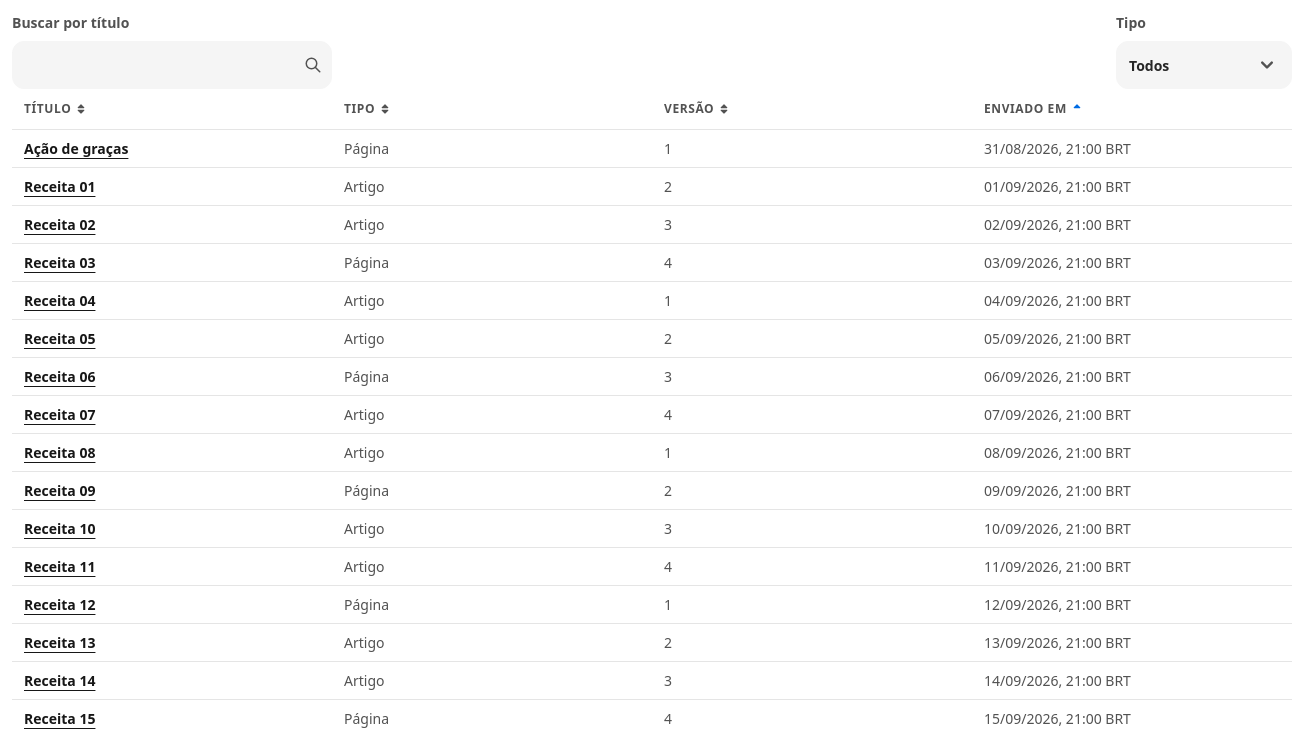
Test case: busca, filtro, ordem e paginação (#365) › busca sem resultado mantém a tabela com a mensagem e 0 resultados
In the search field labelled "Buscar por título": (172, 65) [12,41,332,89], type "inexistente"
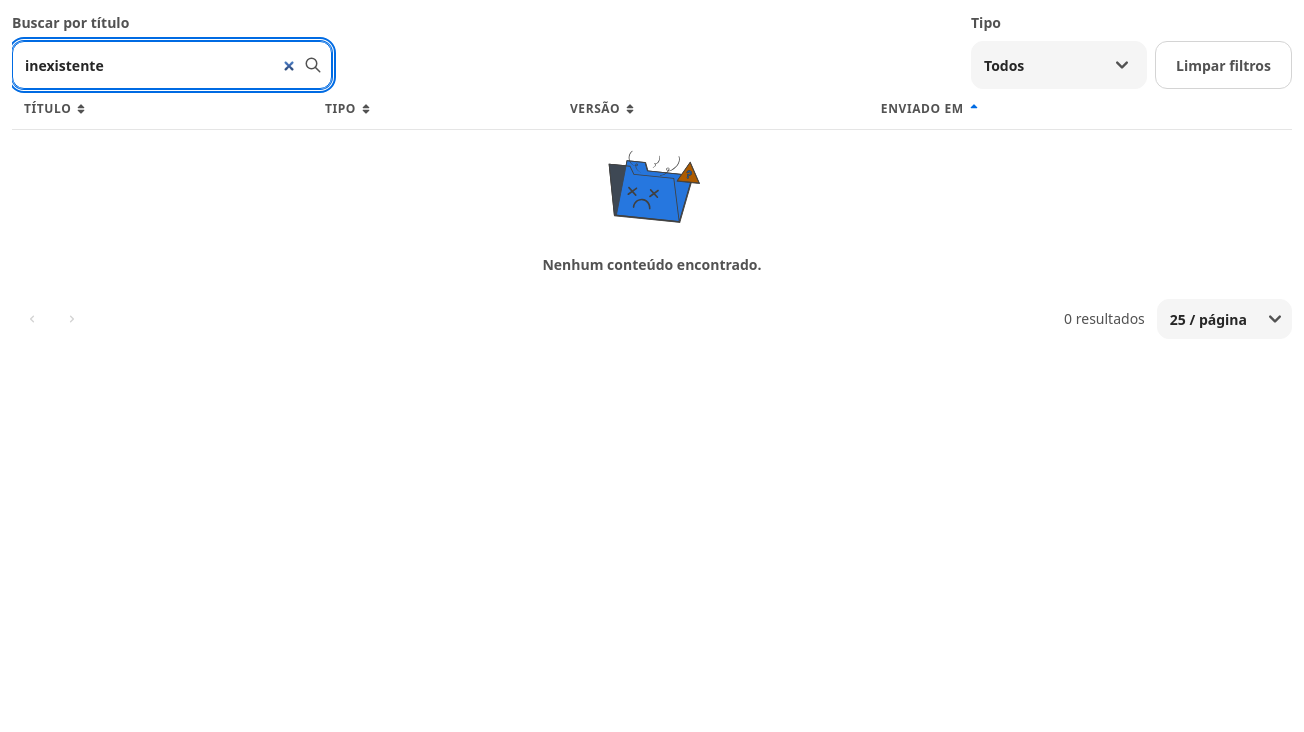
Now the text "Nenhum conteúdo encontrado." is shown, box [542,254,762,275]
Now the message reads "0 resultados", box [1064,309,1145,328]
